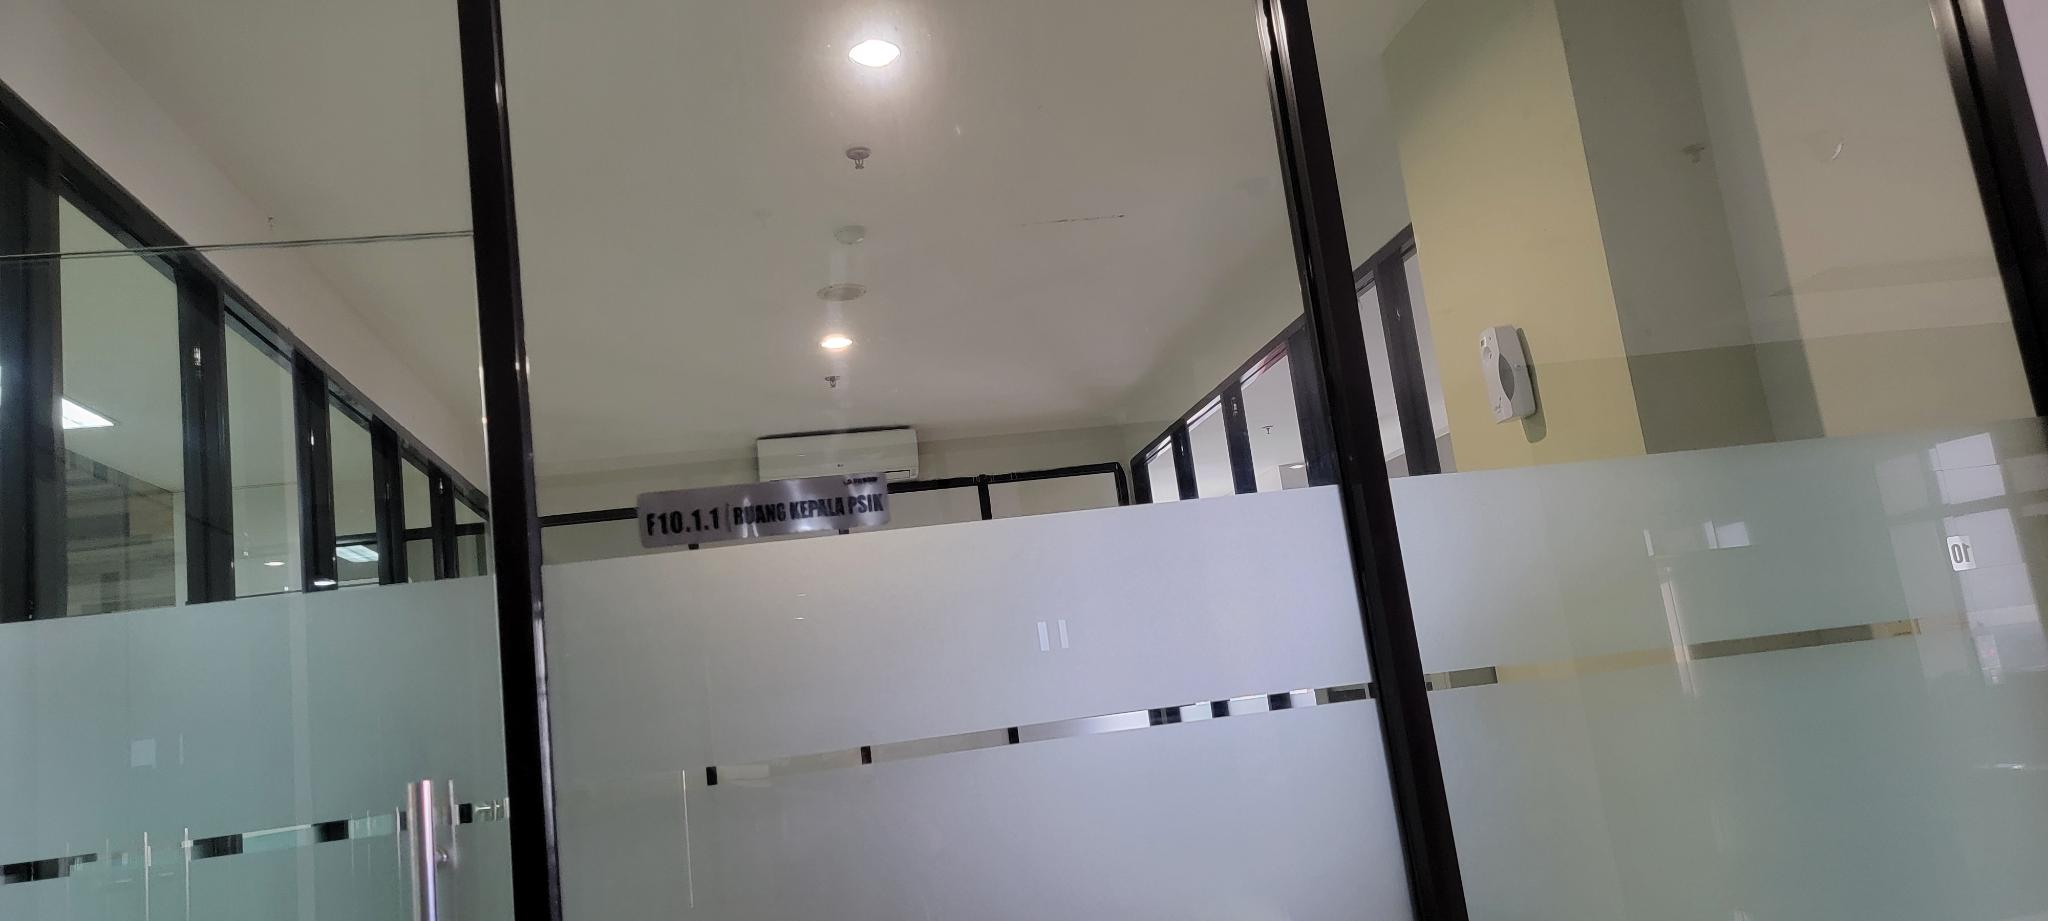plate: (635, 469, 893, 550)
